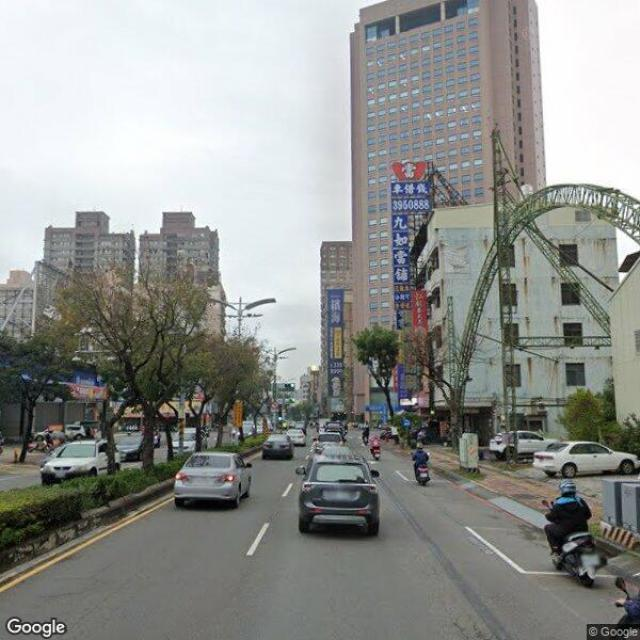Legalparking: (528, 434, 640, 480), (494, 424, 564, 464)
